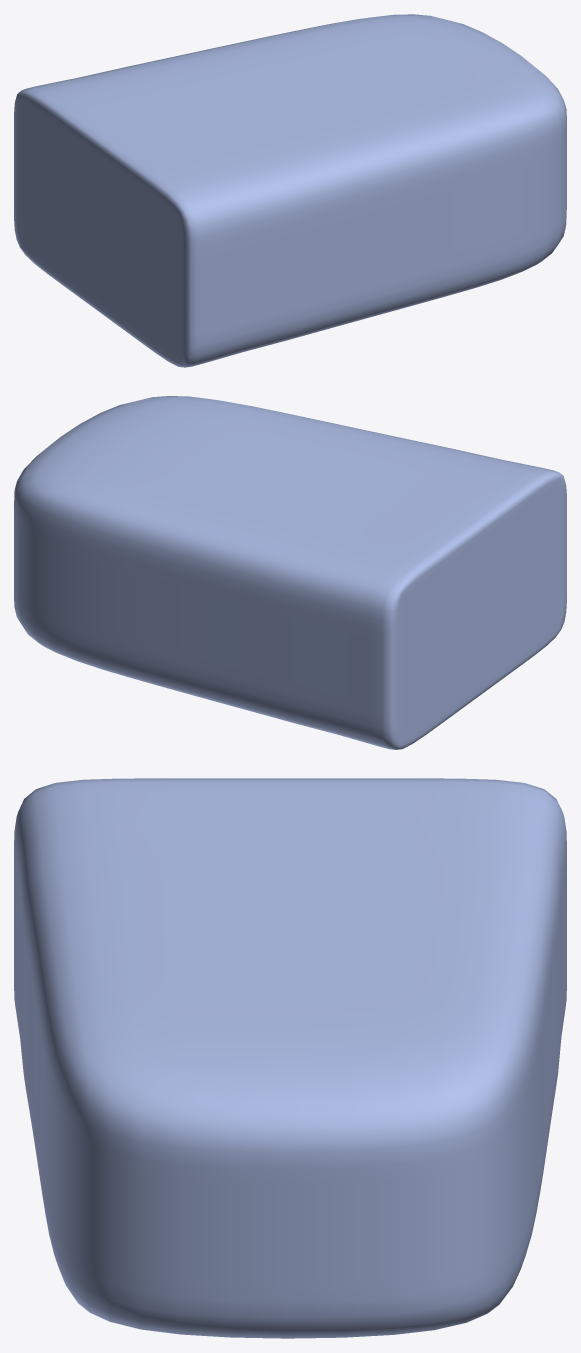
The model's file is SlimeBezRupe.fbx.
3 renders of one model, top to bottom at view 1: azimuth 30°, elevation 25°; view 2: azimuth 150°, elevation 25°; view 3: azimuth 270°, elevation 25°, orthographic. The views are drawn at different scales.
Parts seen in each view (by area): view 1: Slime.001; view 2: Slime.001; view 3: Slime.001.
Part boxes in pixels (x1,y1,x2,y2): Slime.001: [14, 14, 566, 367]; Slime.001: [14, 396, 566, 749]; Slime.001: [14, 778, 566, 1338].
Bounding box in the file's own units: 0.4401 × 0.1682 × 0.3147.
